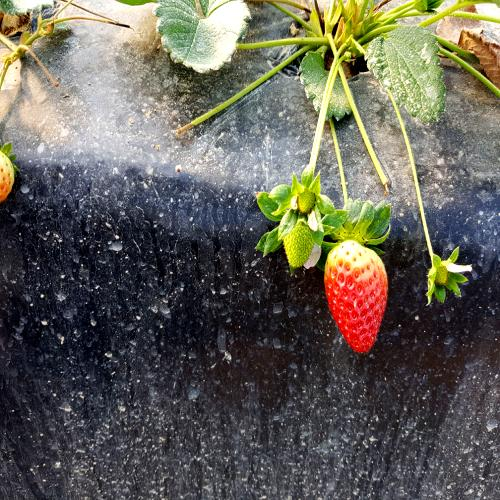partially-ripe: (321, 232, 394, 364)
